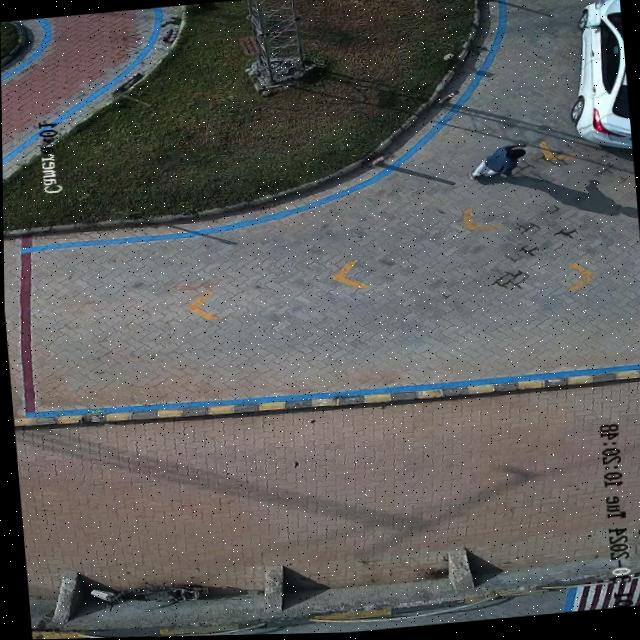car: (570, 0, 630, 151)
